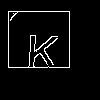K: (25, 25, 61, 72)
